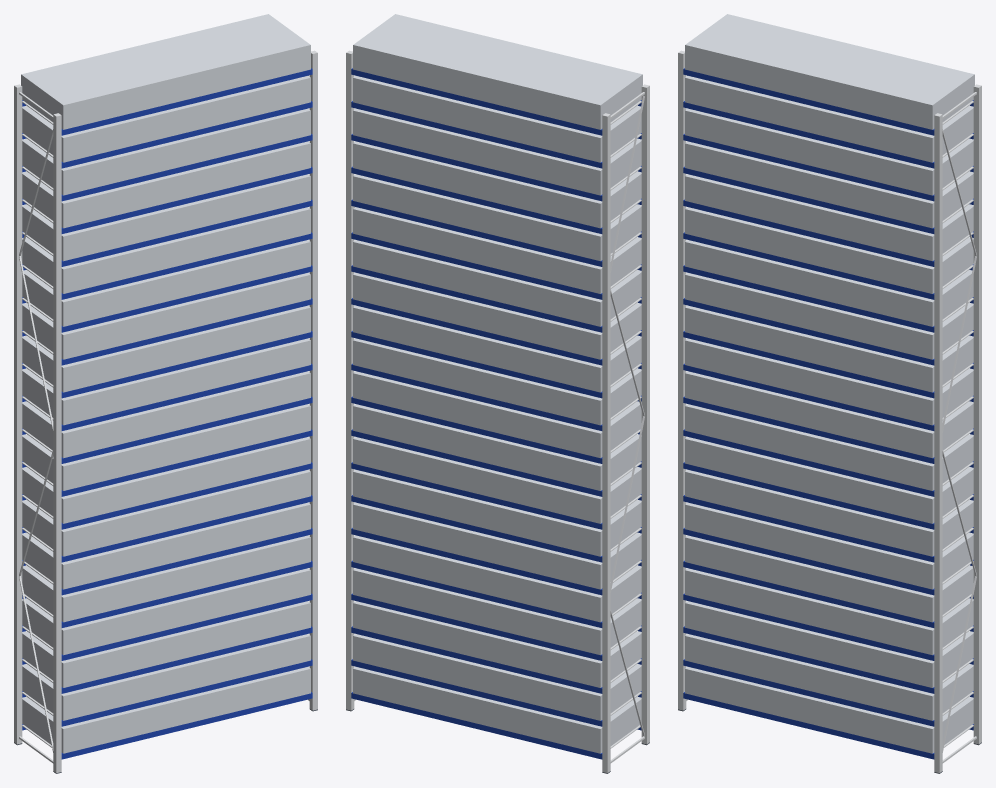
The model's file is SM_MPR_CADRack_F20_W144_Standard_LOD2.fbx.
3 views of the same model, side by side, from view 1: azimuth 30°, elevation 25°; view 2: azimuth 150°, elevation 25°; view 3: azimuth 330°, elevation 25° (orthographic).
Parts seen in each view (by area): view 1: SM_MPR_CADRack_F20_W144_Standard_LOD2; view 2: SM_MPR_CADRack_F20_W144_Standard_LOD2; view 3: SM_MPR_CADRack_F20_W144_Standard_LOD2.
Part boxes in pixels (x1,y1,x2,y2): SM_MPR_CADRack_F20_W144_Standard_LOD2: [14, 14, 317, 773]; SM_MPR_CADRack_F20_W144_Standard_LOD2: [346, 14, 649, 773]; SM_MPR_CADRack_F20_W144_Standard_LOD2: [678, 14, 981, 773].
Bounding box in the file's own units: 381 × 107 × 929.
